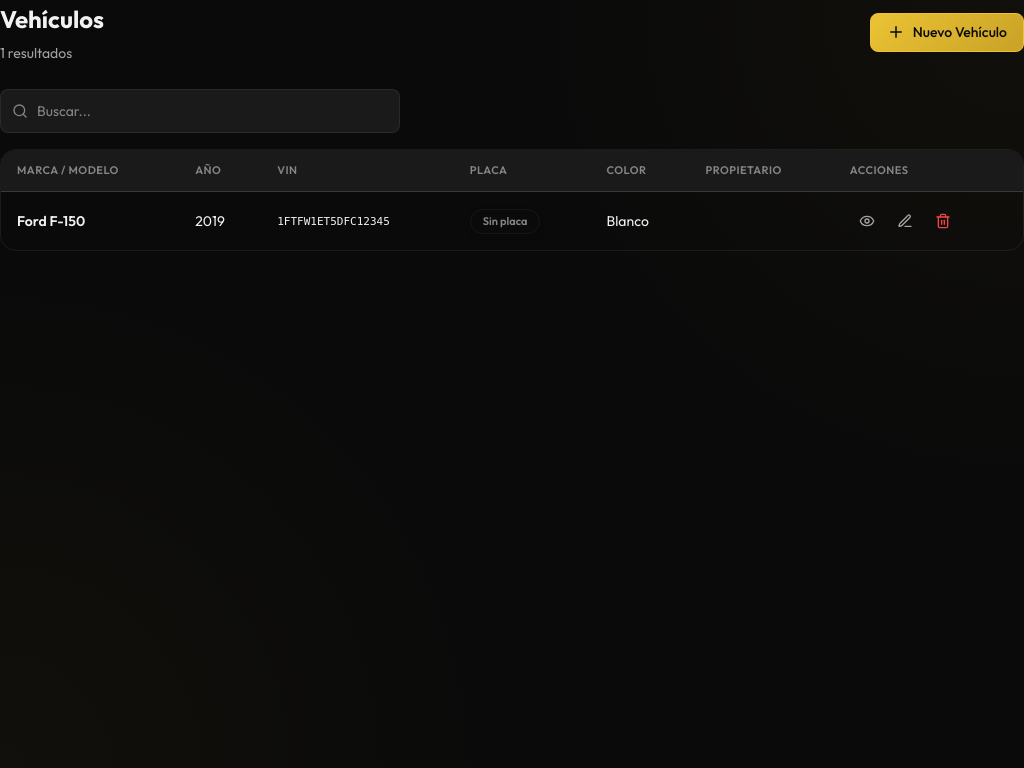
Scenario: Vehicle without a plate › reopens a plateless vehicle with the box already checked
This screenshot has width=1024, height=768.
Check: the text "Ford F-150" is shown, box 1,192 -> 179,250
What coordinates should you click on to do the following:
click the button named "Editar"
I would click on:
 (905, 221)
Its box is 888,204 -> 922,238.
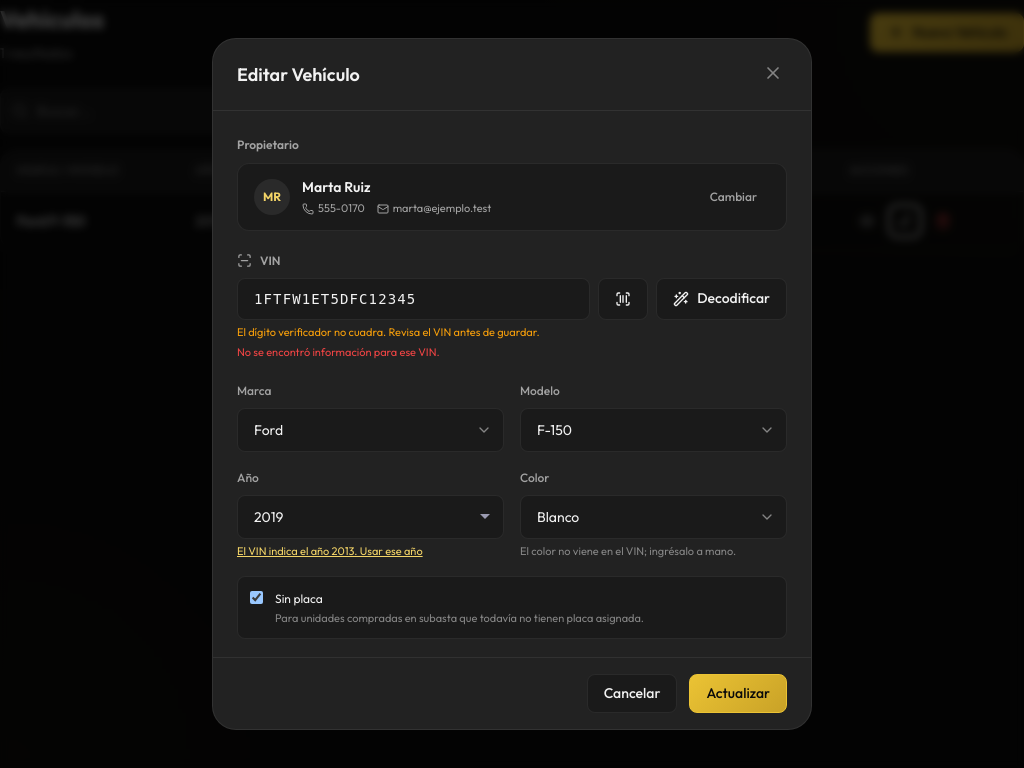
Check: the checkbox labelled "Sin placa" is checked, box 250,591 -> 263,604
